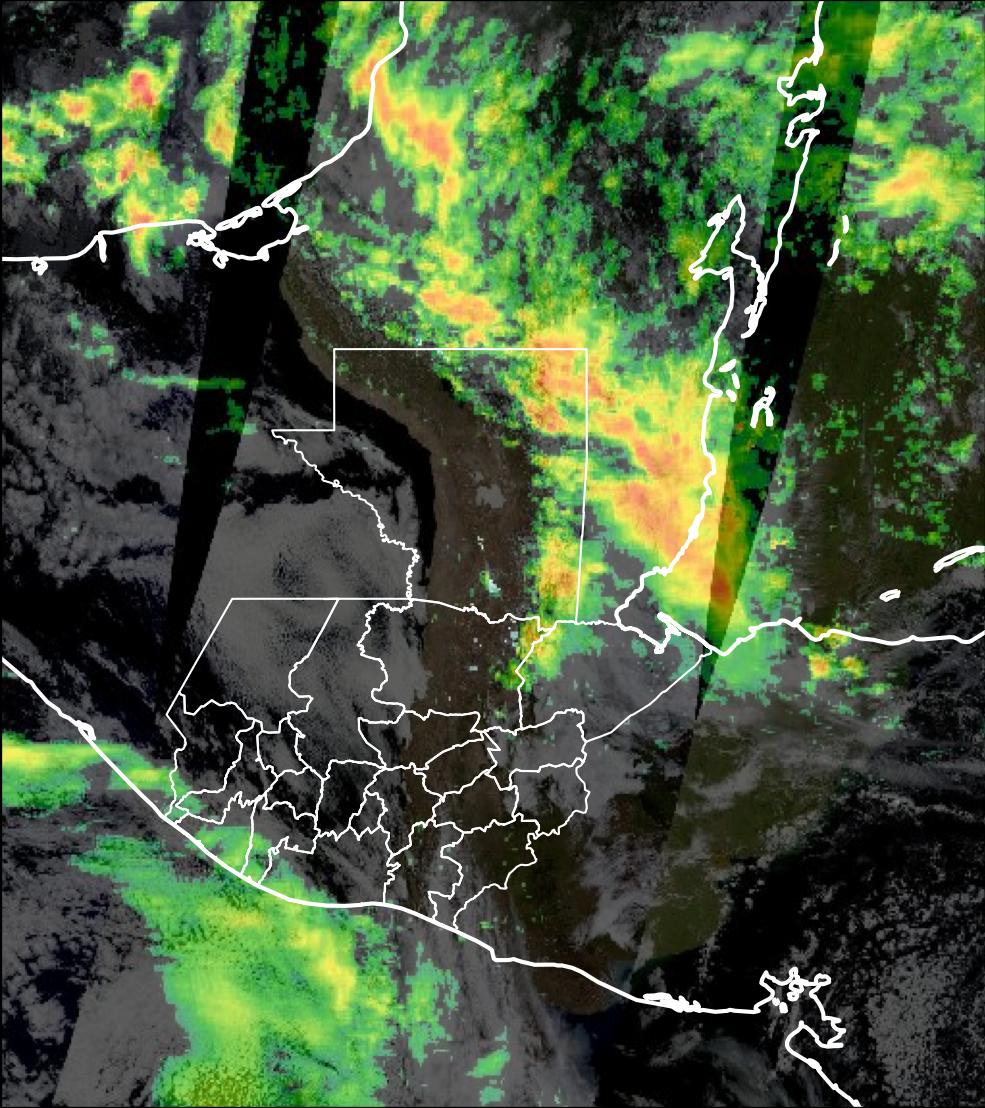precipitacion: (596, 472, 784, 639), (342, 40, 461, 173), (122, 63, 163, 120)
